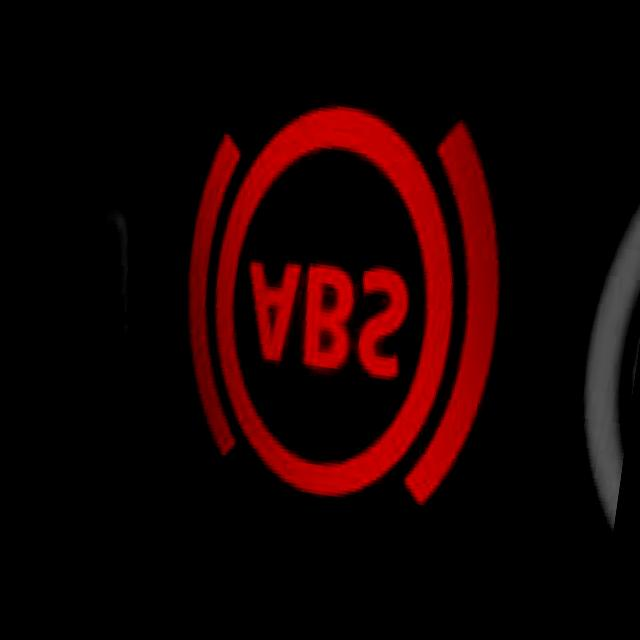kontrolka: (123, 60, 542, 539)
